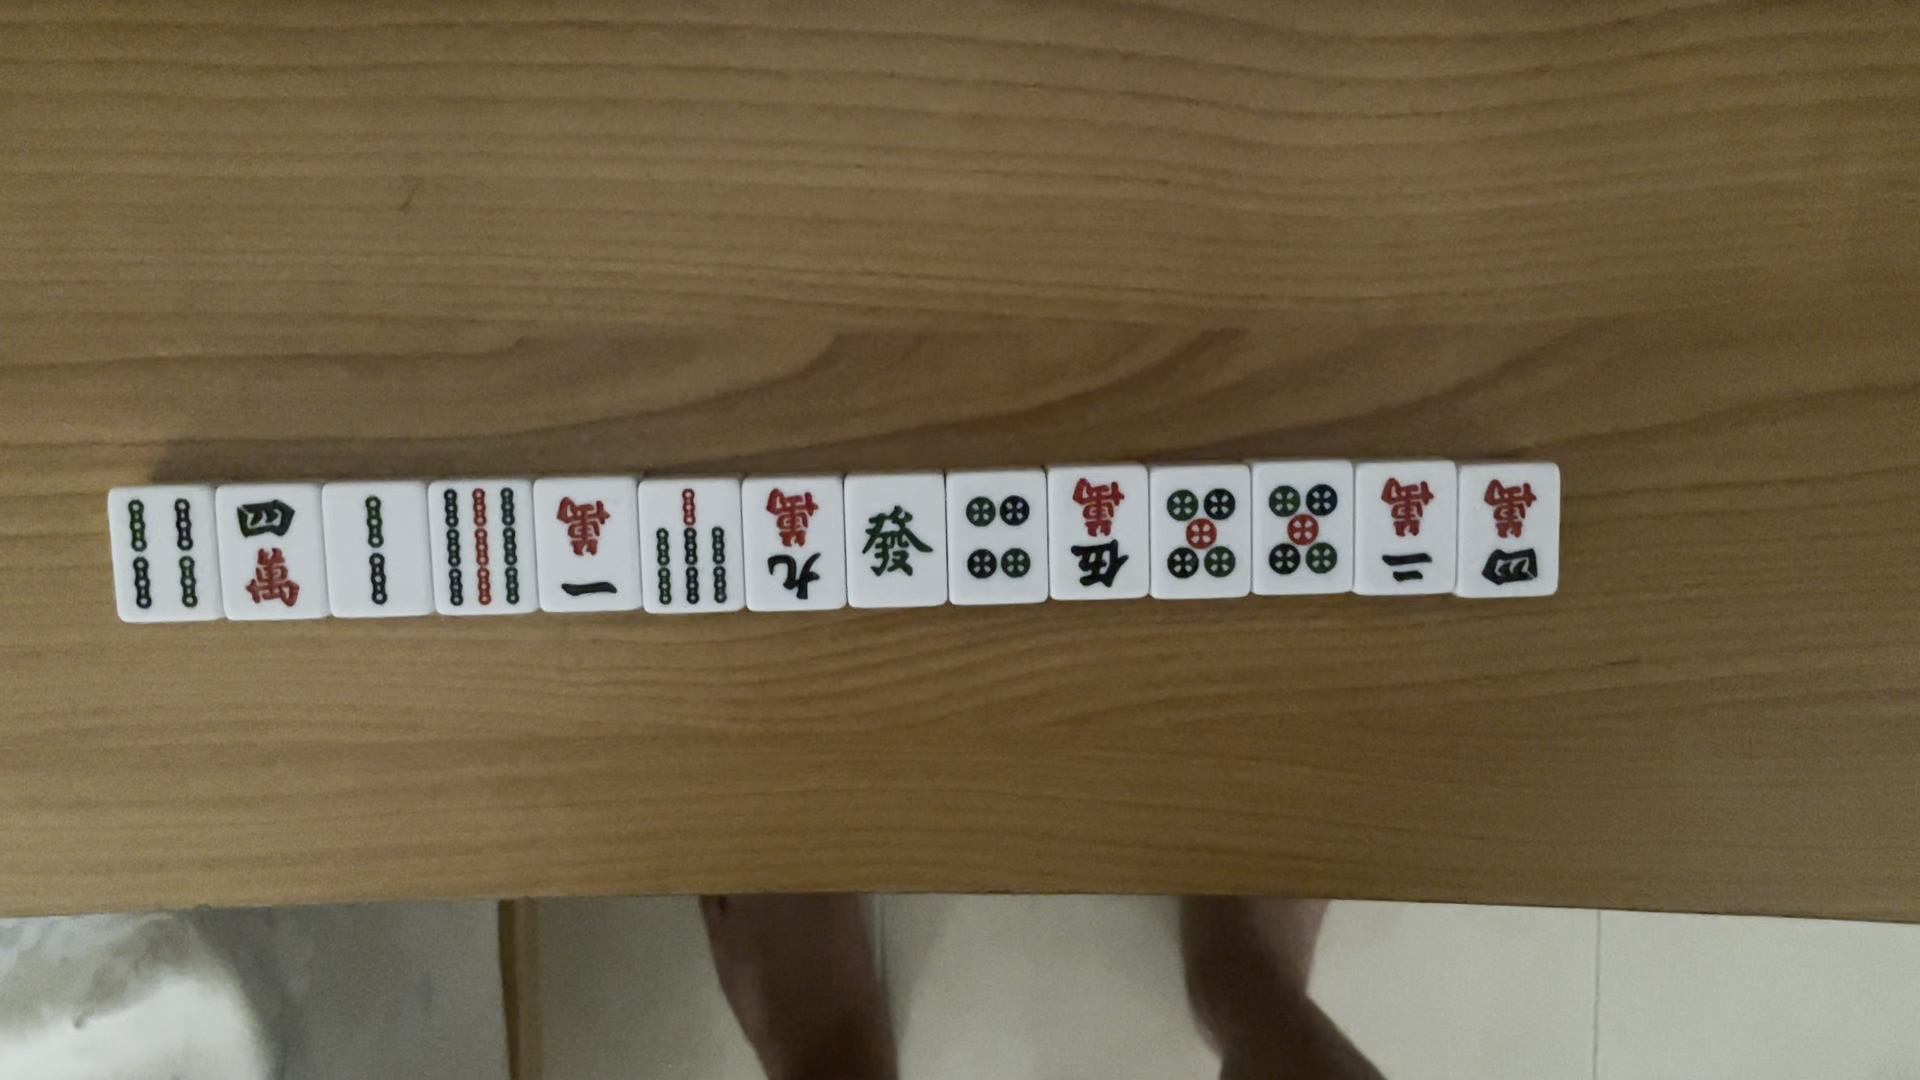b-2: (352, 493, 400, 611)
b-4: (123, 493, 207, 611)
b-7: (647, 487, 733, 609)
b-9: (438, 488, 524, 609)
c-1: (545, 492, 622, 608)
c-2: (1374, 475, 1444, 583)
c-4: (225, 489, 305, 615), (1477, 476, 1548, 585)
c-5: (1065, 475, 1135, 596)
c-9: (758, 487, 832, 605)
d-4: (964, 489, 1035, 585)
d-5: (1160, 483, 1245, 588), (1265, 479, 1346, 585)
honors-green: (860, 504, 934, 592)
